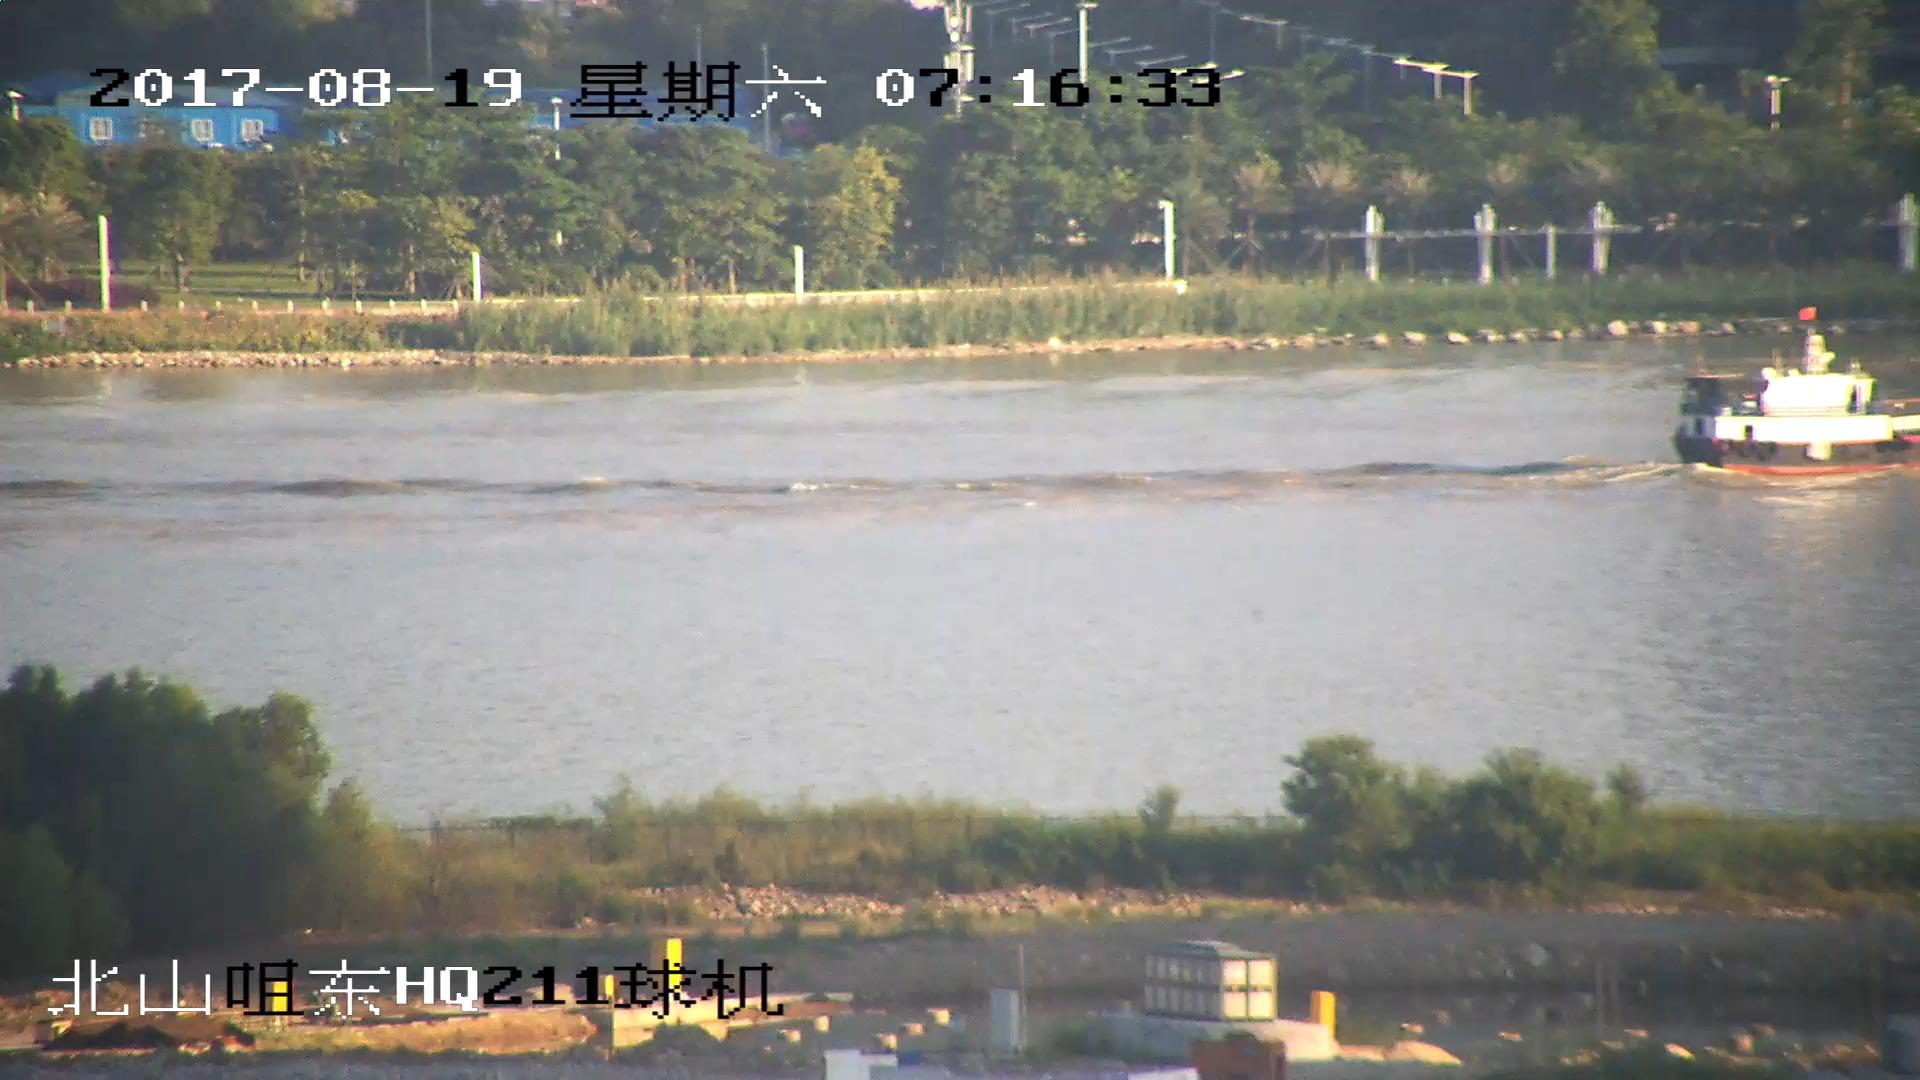fishing boat: (1673, 318, 1920, 473)
